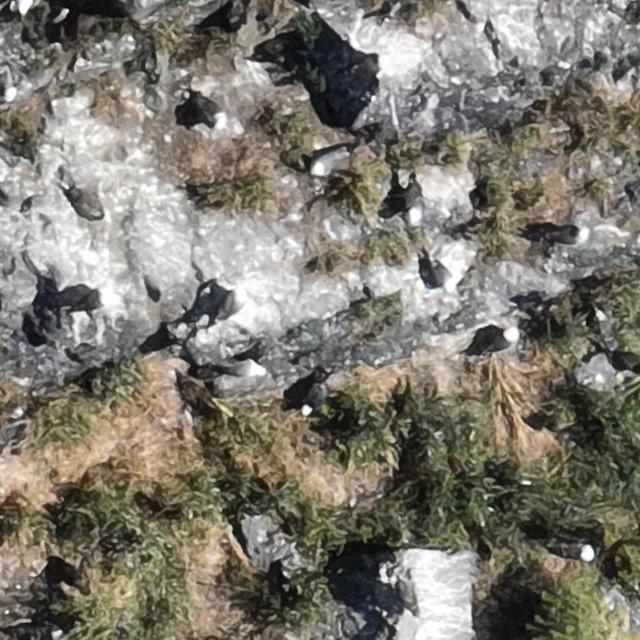umineko: (212, 284, 246, 327), (194, 93, 228, 129), (403, 177, 423, 226), (215, 360, 267, 378), (556, 540, 596, 560), (484, 331, 519, 353), (302, 384, 326, 415), (312, 151, 343, 174), (427, 262, 452, 286), (554, 229, 588, 245), (15, 0, 34, 13)
